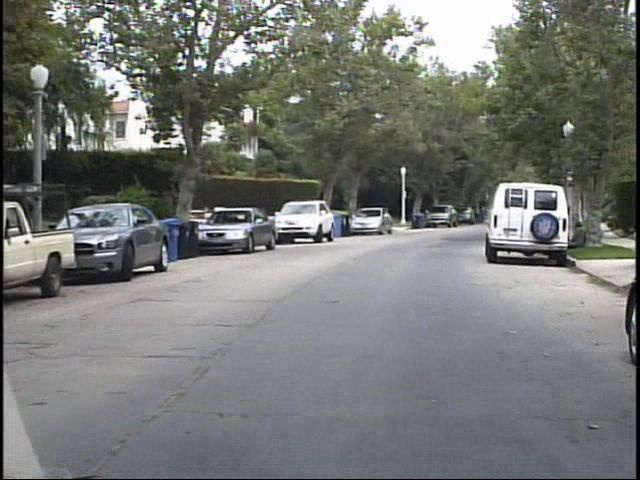person: (572, 221, 593, 253)
